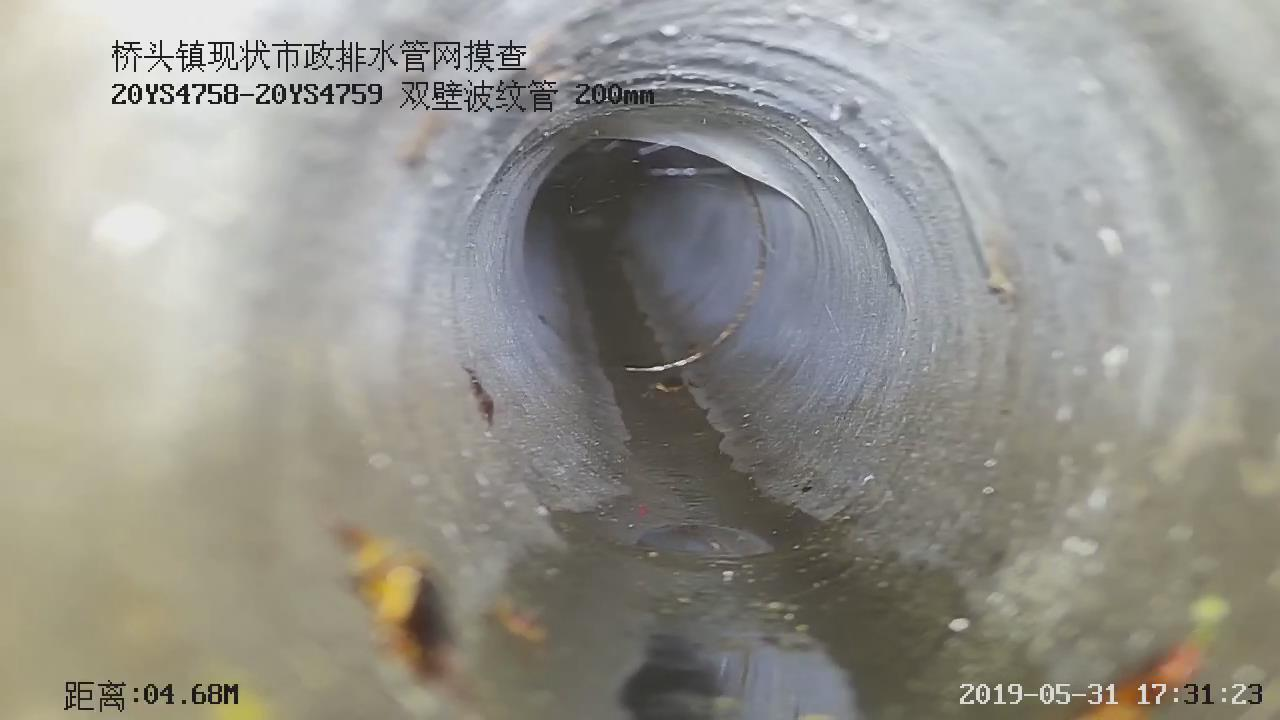BX: (564, 75, 856, 252)
